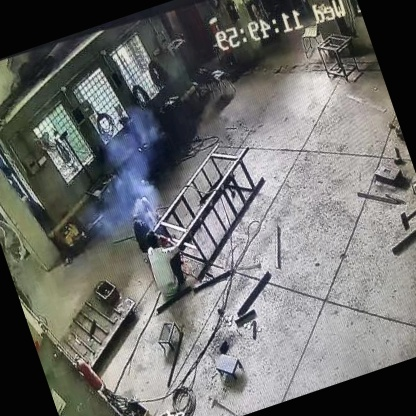smoke: (76, 105, 182, 238)
